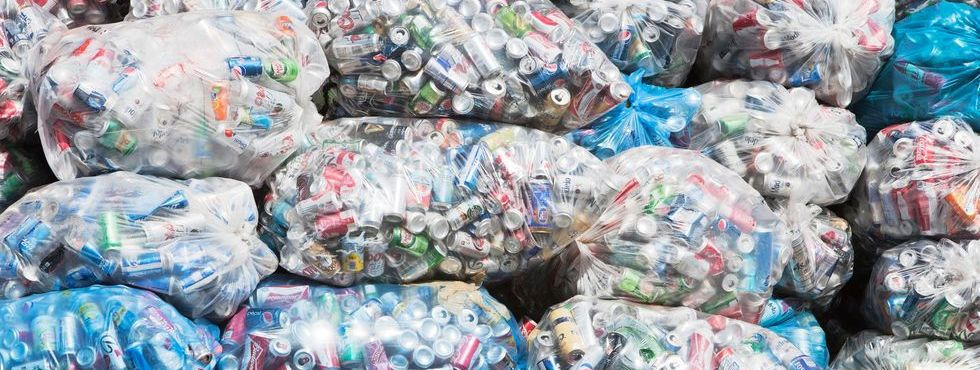plastic_bagwdw: (246, 95, 669, 324), (8, 7, 341, 229), (206, 195, 543, 370), (292, 5, 647, 161), (1, 150, 278, 334), (573, 129, 793, 346), (673, 34, 873, 243), (533, 49, 729, 237), (681, 2, 884, 137), (1, 254, 236, 370), (505, 284, 817, 370), (532, 2, 719, 124), (813, 3, 980, 138), (740, 163, 865, 329), (840, 102, 980, 250), (852, 217, 980, 348), (827, 307, 980, 370), (646, 1, 647, 7)
